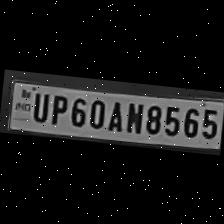0: (86, 94, 108, 130)
5: (197, 104, 220, 140), (160, 101, 182, 138)
6: (65, 91, 87, 127), (180, 103, 201, 139)
8: (140, 99, 162, 135)
A: (106, 96, 127, 133)
N: (121, 98, 144, 134)
P: (46, 89, 68, 125)
U: (28, 88, 50, 123)
